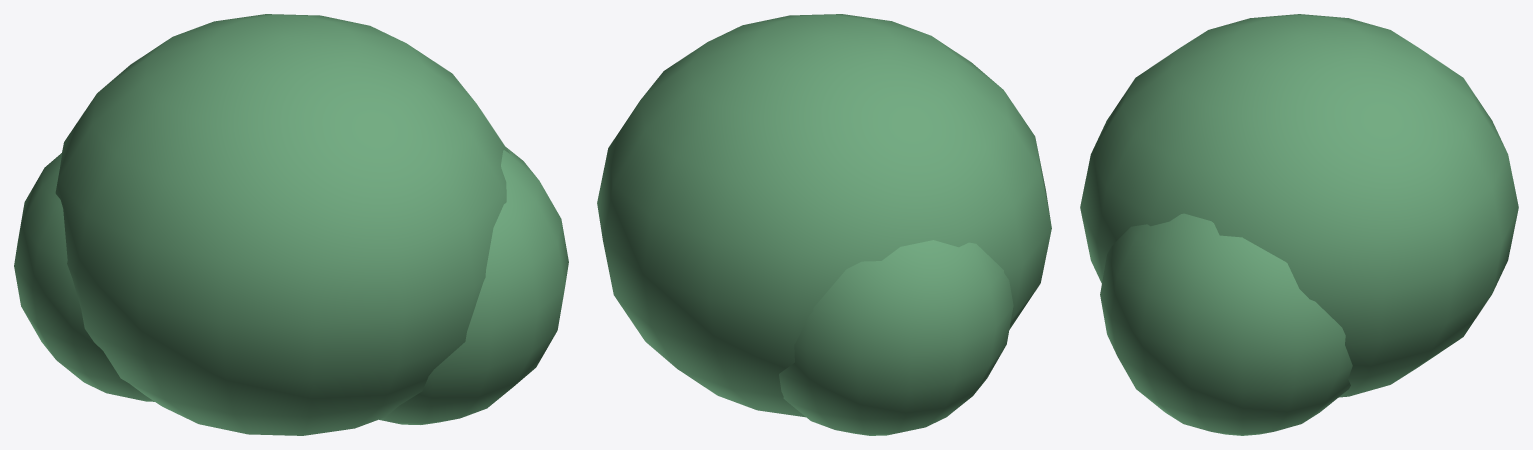
File: shrub.glb
3 views of the same model, side by side, from view 1: azimuth 30°, elevation 25°; view 2: azimuth 150°, elevation 25°; view 3: azimuth 270°, elevation 25° (orthographic). The views are drawn at different scales.
Visible parts, largest first — view 1: Main, Side (×2); view 2: Main, Side; view 3: Main, Side.
Boxes of the visible parts, left/top/right/bottom form: Main: left=55, top=14, right=509, bottom=435; Side (×2): left=14, top=147, right=568, bottom=424; Main: left=597, top=14, right=1051, bottom=417; Side: left=779, top=240, right=1013, bottom=435; Main: left=1080, top=14, right=1518, bottom=397; Side: left=1100, top=213, right=1352, bottom=435.
Size of the model in its own units: 1 by 0.799 by 0.924.
